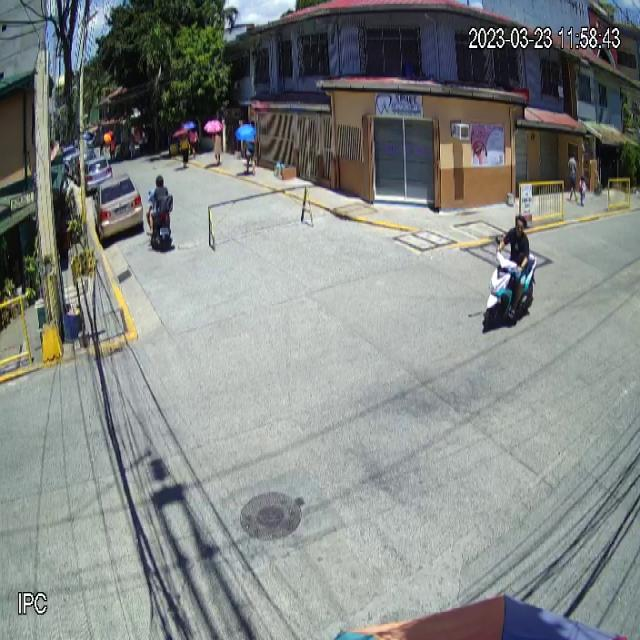Motorcycle: (483, 233, 539, 332)
